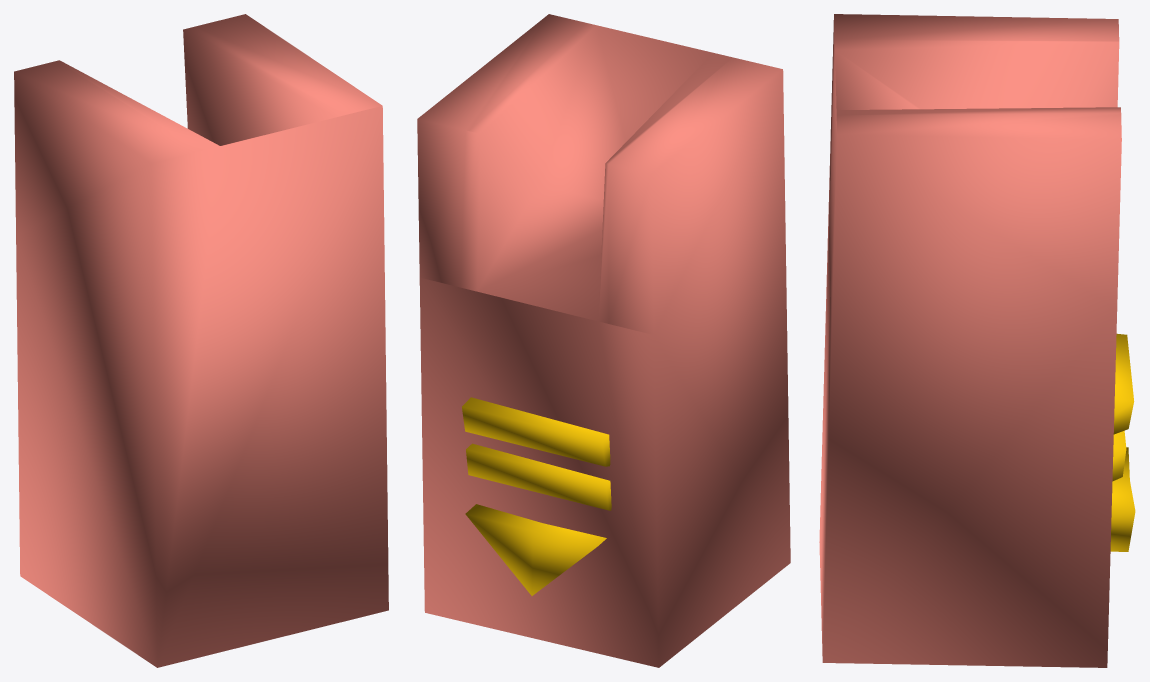
The model's file is forearm_right.gltf.
3 views of the same model, side by side, from view 1: azimuth 30°, elevation 25°; view 2: azimuth 150°, elevation 25°; view 3: azimuth 270°, elevation 25° (orthographic). The views are drawn at different scales.
Visible parts, largest first — view 1: group241558756; view 2: group241558756; view 3: group241558756.
Boxes of the visible parts, x1,y1,x2,y2 form: group241558756: [14, 14, 388, 667]; group241558756: [417, 14, 790, 667]; group241558756: [819, 14, 1135, 667].
Bounding box in the file's own units: 0.0808 × 0.1653 × 0.0884.
